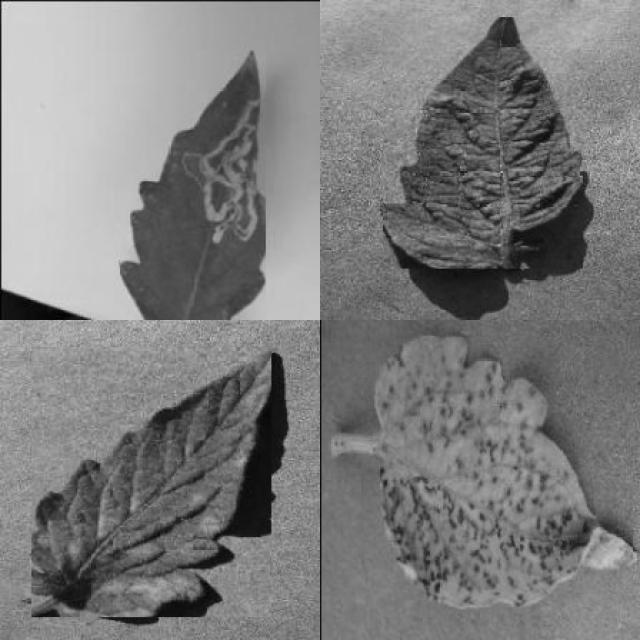Leaf Miner: (120, 50, 266, 320)
Leaf Mold: (32, 347, 271, 617)
Septoria: (374, 336, 634, 608)
Spider Mites: (383, 17, 583, 269)
